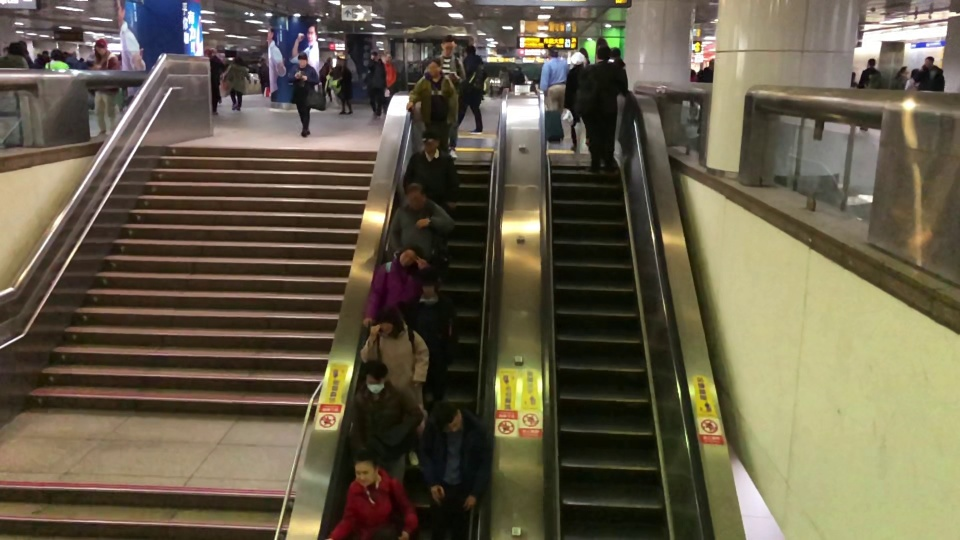person_head: (352, 454, 380, 486), (433, 403, 464, 431), (364, 361, 387, 393), (373, 305, 396, 333), (390, 246, 417, 267), (405, 183, 425, 207), (420, 133, 441, 153), (440, 36, 457, 56), (422, 278, 438, 296), (426, 56, 441, 74), (592, 47, 611, 61), (572, 52, 587, 69), (94, 39, 109, 54), (295, 52, 310, 66), (544, 46, 560, 58), (6, 42, 20, 54), (19, 39, 30, 54), (49, 49, 63, 60), (923, 54, 937, 65), (610, 46, 622, 58), (864, 57, 877, 67), (910, 67, 921, 78), (465, 46, 477, 55), (232, 57, 242, 66), (900, 65, 910, 74), (371, 51, 380, 59), (210, 47, 217, 56), (708, 58, 714, 68), (385, 56, 393, 63), (42, 49, 49, 56), (36, 53, 42, 58), (343, 59, 347, 65)
person_vbox: (358, 305, 429, 464), (426, 403, 504, 539), (350, 361, 419, 488), (334, 454, 418, 539), (388, 183, 453, 283), (411, 278, 462, 401), (579, 48, 626, 179), (359, 247, 436, 326), (404, 57, 452, 156), (398, 134, 457, 209), (434, 36, 463, 157), (456, 47, 491, 135), (92, 39, 123, 136), (537, 47, 568, 144), (564, 52, 589, 151), (293, 52, 316, 139), (226, 57, 252, 111), (366, 51, 386, 118), (210, 47, 225, 115), (337, 59, 355, 115), (382, 56, 398, 116), (920, 55, 945, 91), (857, 58, 883, 90), (0, 43, 30, 69), (44, 49, 71, 68), (893, 66, 911, 90), (20, 40, 35, 68), (904, 67, 923, 89), (702, 58, 714, 81), (37, 49, 50, 68), (33, 54, 43, 68)
